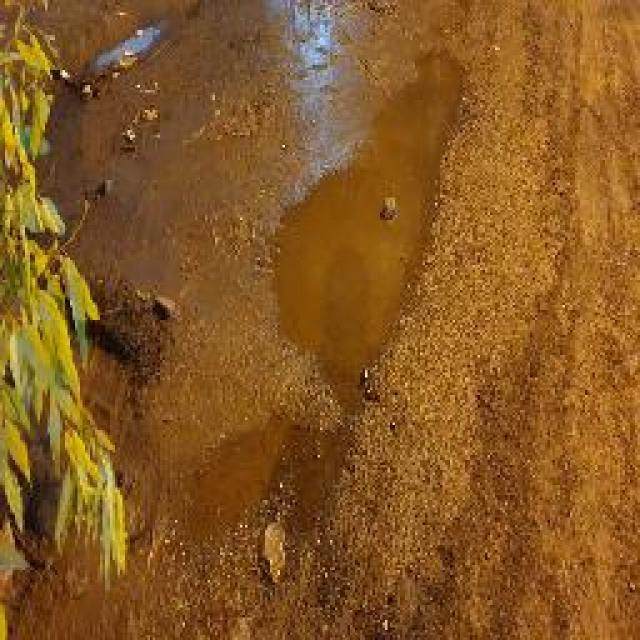stagnation: (250, 39, 482, 405), (185, 414, 352, 567), (77, 8, 187, 78)
